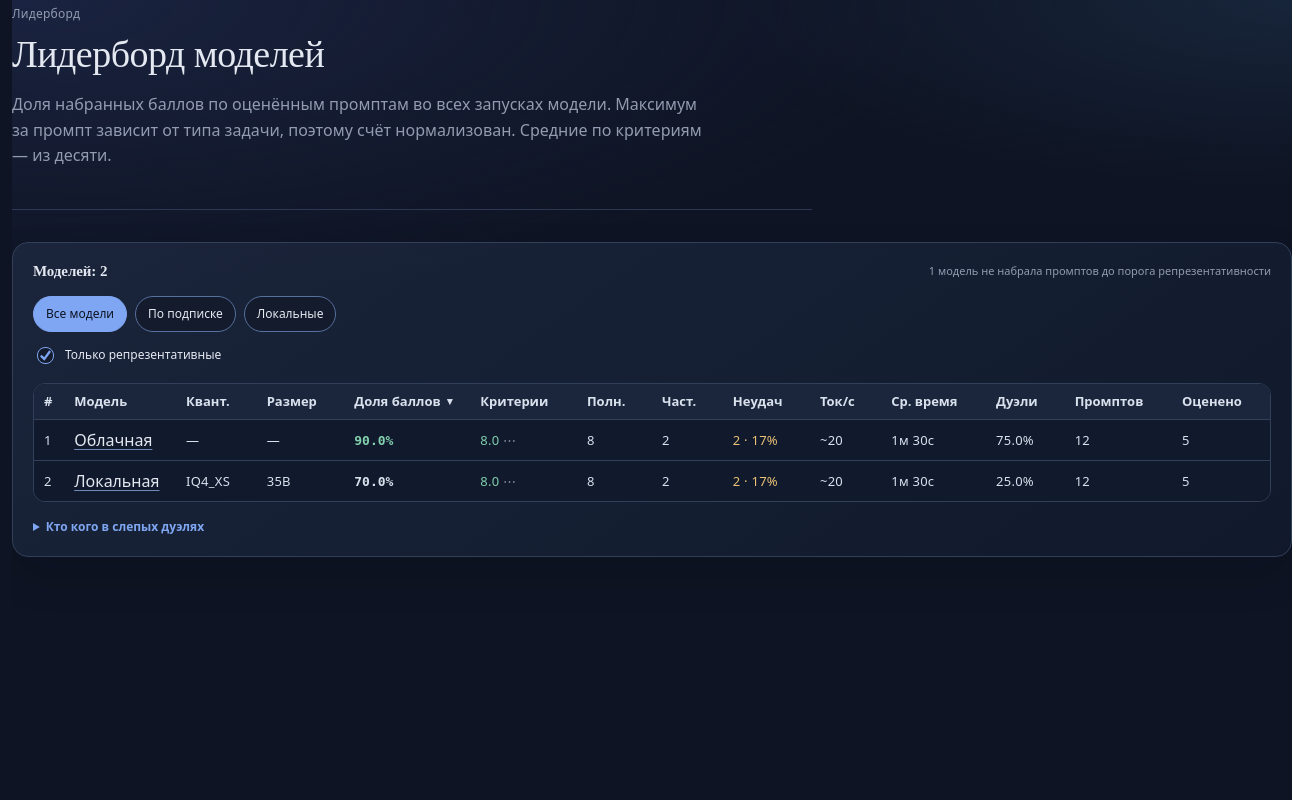
Scenario: сортировка и компактность › держит нерепрезентативную модель вне ранжирования, хотя её баллы выше всех
Check: the link "Облачная" is shown, box [74,429,152,451]
Click the checkbox labelled "Только репрезентативные" at {"x": 46, "y": 355}, box [37,347,54,364]
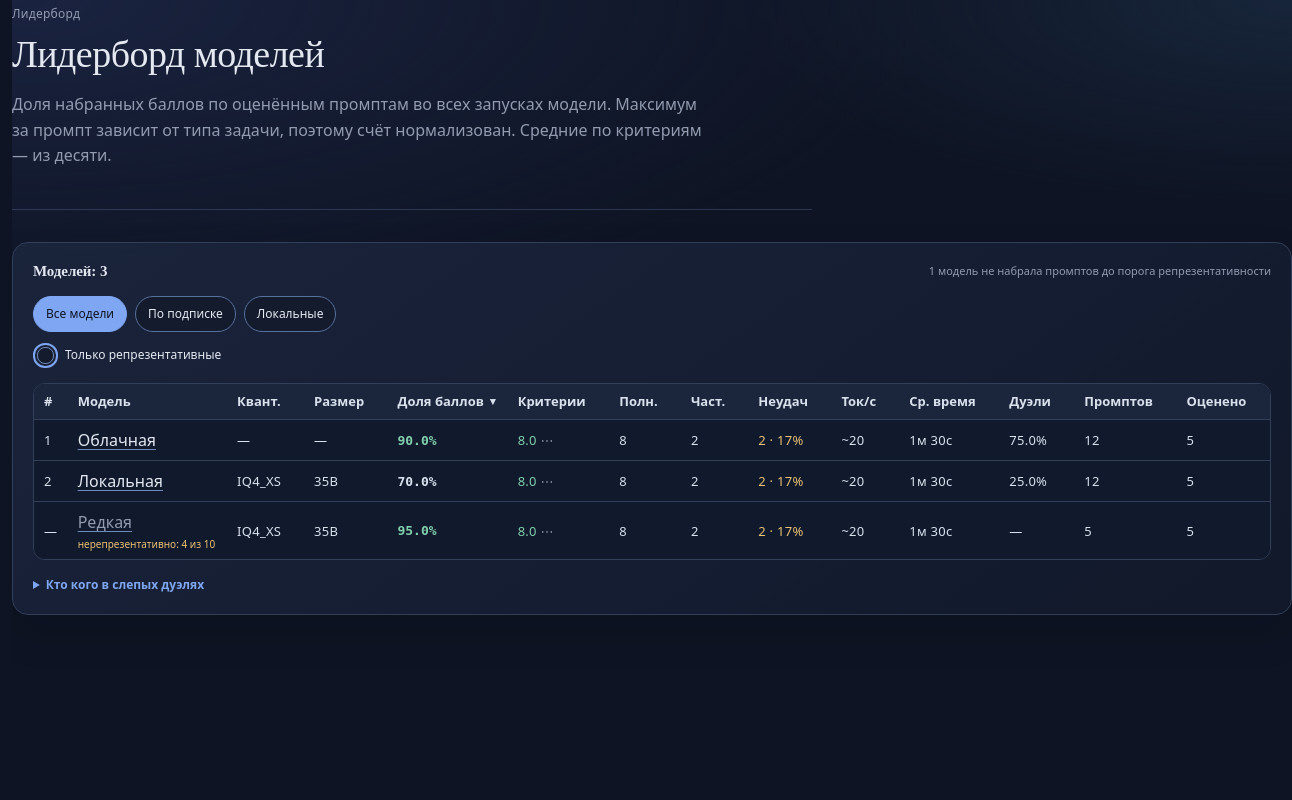
Check: the text "нерепрезентативно: 4 из 10" is shown, box [78,537,217,551]
